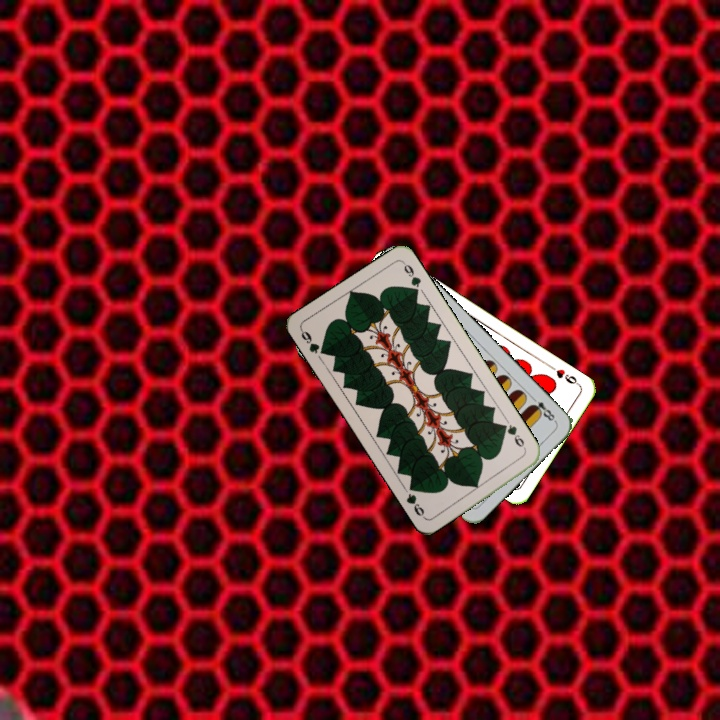E8: (526, 392, 559, 425)
G9: (498, 420, 529, 454), (297, 326, 330, 357)
H9: (546, 361, 582, 388)
